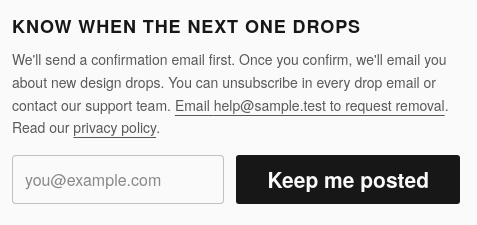
Scenario: DropSignupForm › does not send twice while a send is in flight
The image size is (477, 225).
Type "shopper@example.com" into the field labelled "Know when the next one drops" at (118, 180), box [12, 155, 224, 204]
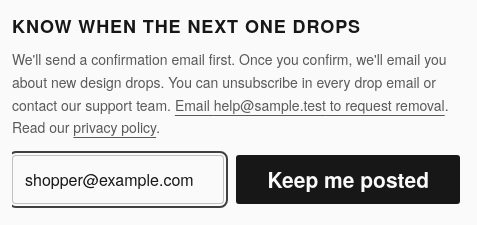
Click the button "Keep me posted" at (348, 180), box [236, 155, 460, 204]
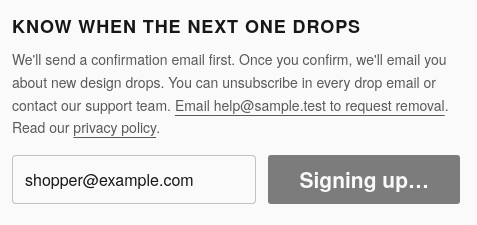
Result: the button "Signing up…" is disabled at [268, 155, 460, 204]
